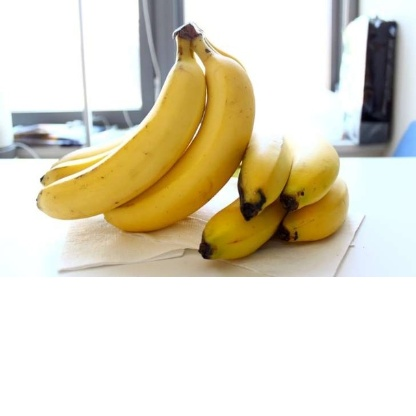chuoi: (36, 19, 218, 214), (222, 103, 358, 255)
